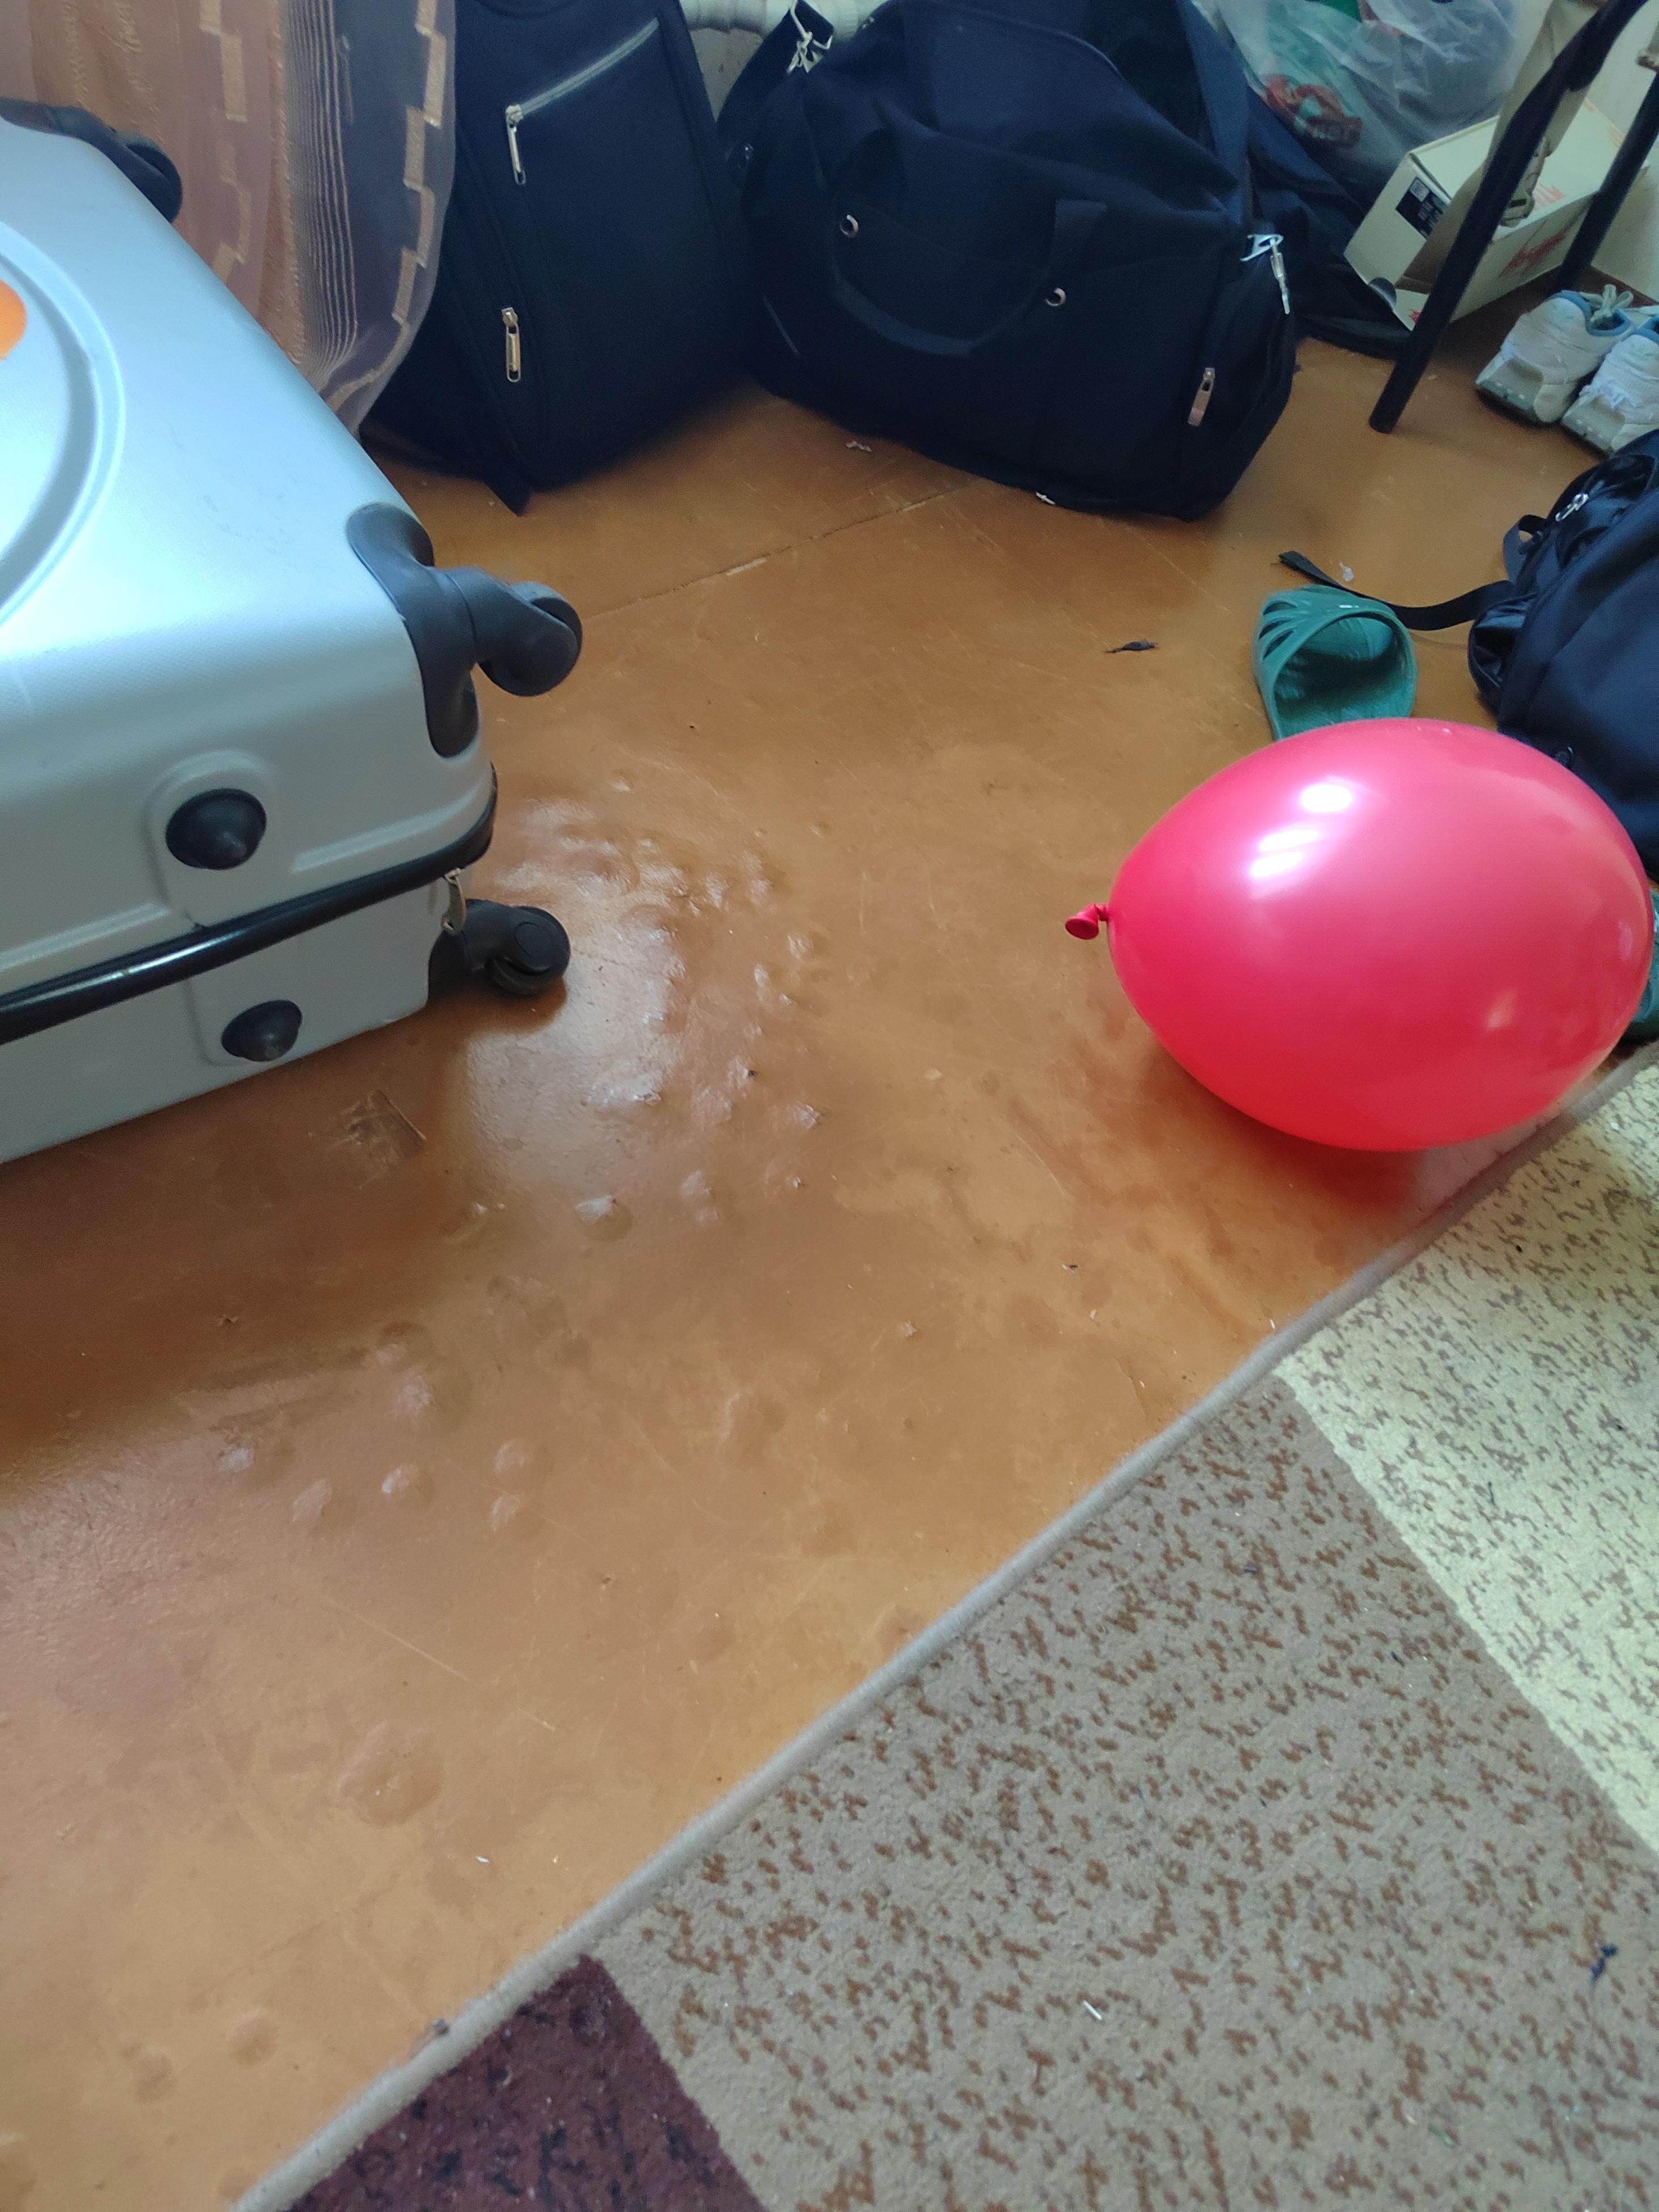red: (1038, 675, 1659, 1180)
